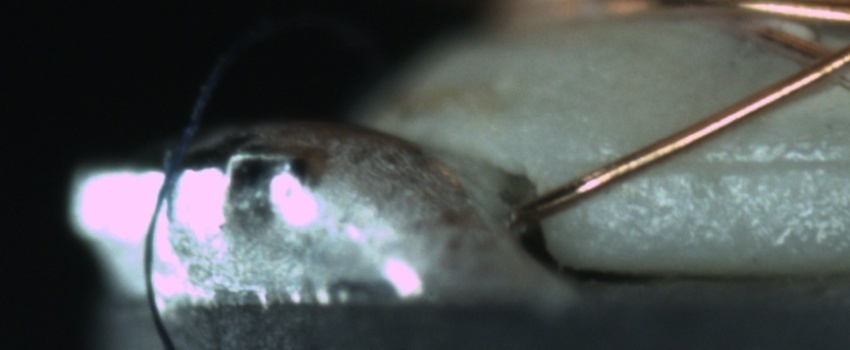CL: (771, 26, 848, 94)
DL: (610, 130, 846, 197)
